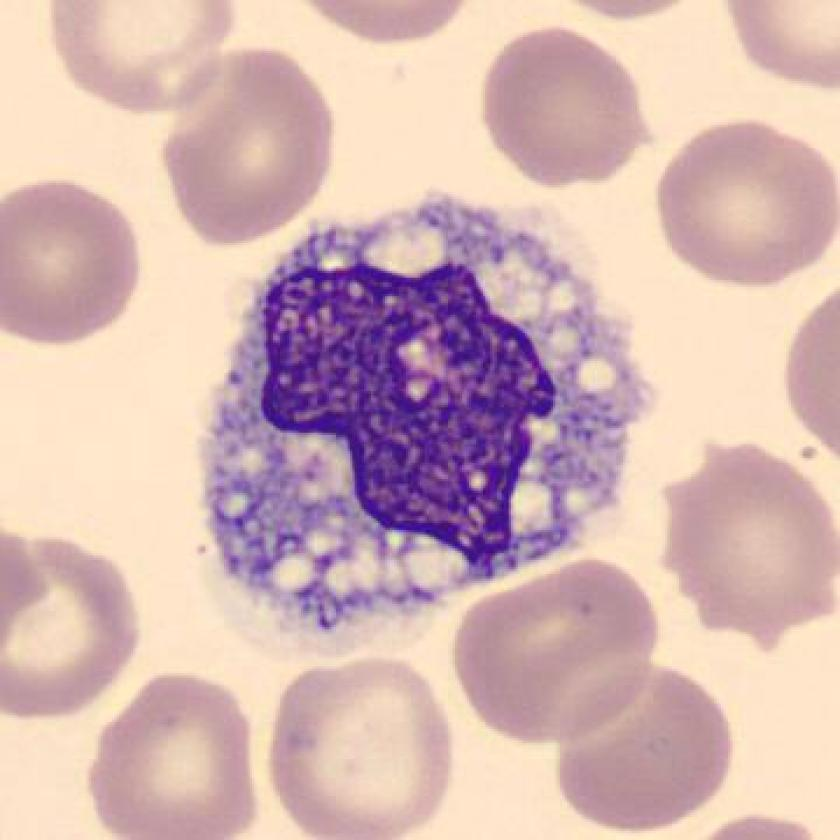monocyte: (181, 173, 671, 668)
